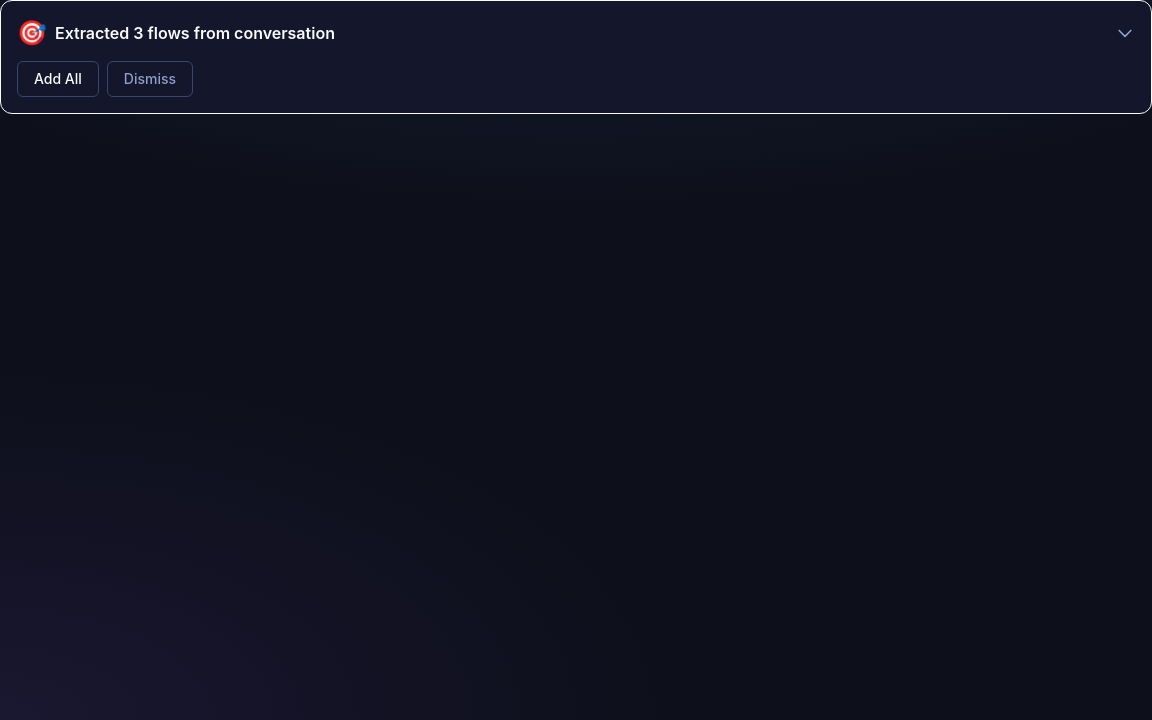
Test: FlowExtractionNotification › expands when header is clicked
Click the button "🎯 Extracted 3 flows from conversation" at (94, 33), box [17,17,1135,49]
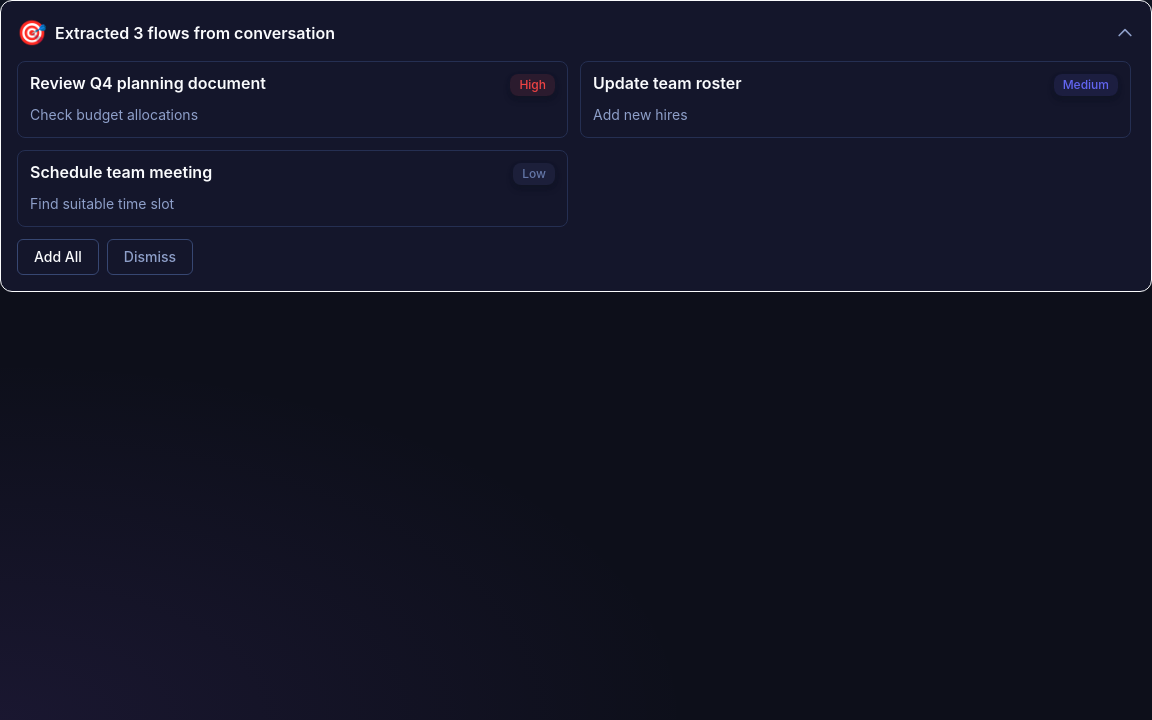
expect the button "🎯 Extracted 3 flows from conversation" is expanded: met, box [17,17,1135,49]
